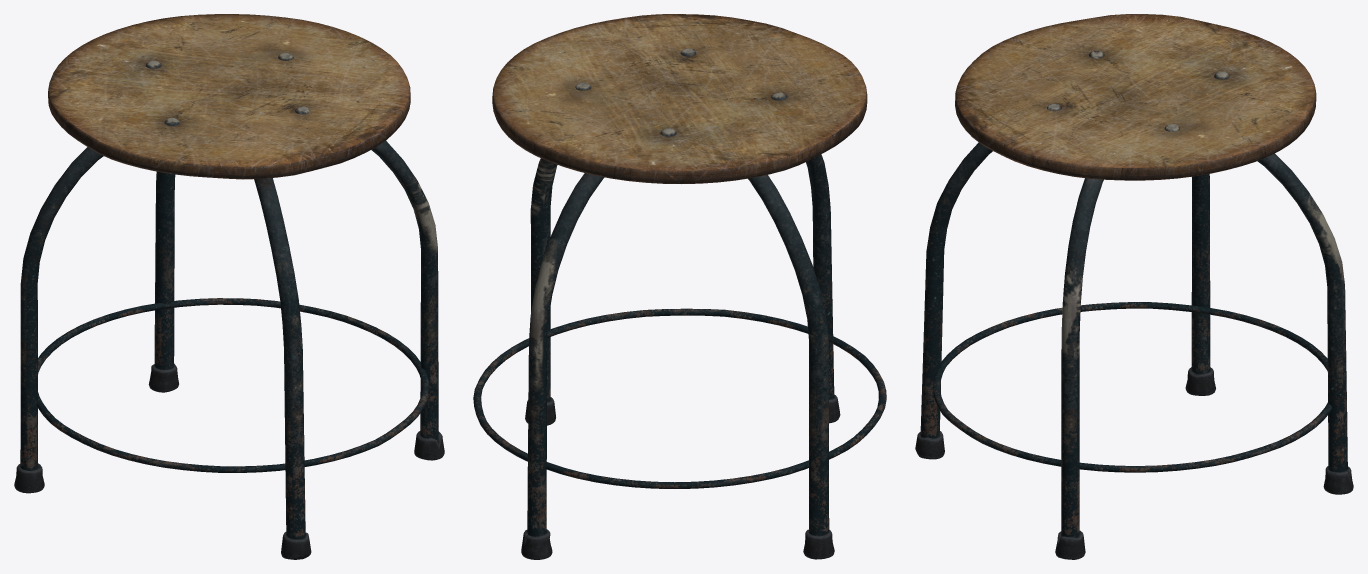
The model's file is metal_stool_02.glb.
3 views of the same model, side by side, from view 1: azimuth 30°, elevation 25°; view 2: azimuth 150°, elevation 25°; view 3: azimuth 270°, elevation 25° (orthographic). The views are drawn at different scales.
Parts seen in each view (by area): view 1: metal_stool_02; view 2: metal_stool_02; view 3: metal_stool_02.
Part boxes in pixels (x1=…): metal_stool_02: x1=14, y1=14, x2=444, y2=559; metal_stool_02: x1=473, y1=14, x2=886, y2=559; metal_stool_02: x1=915, y1=14, x2=1353, y2=559.
Bounding box in the file's own units: 0.4481 × 0.4581 × 0.4731.
1 material, 1 textured.
